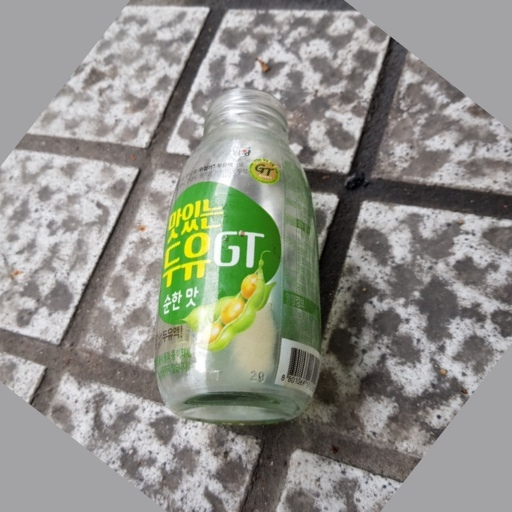Glass_4: (149, 89, 322, 427)
